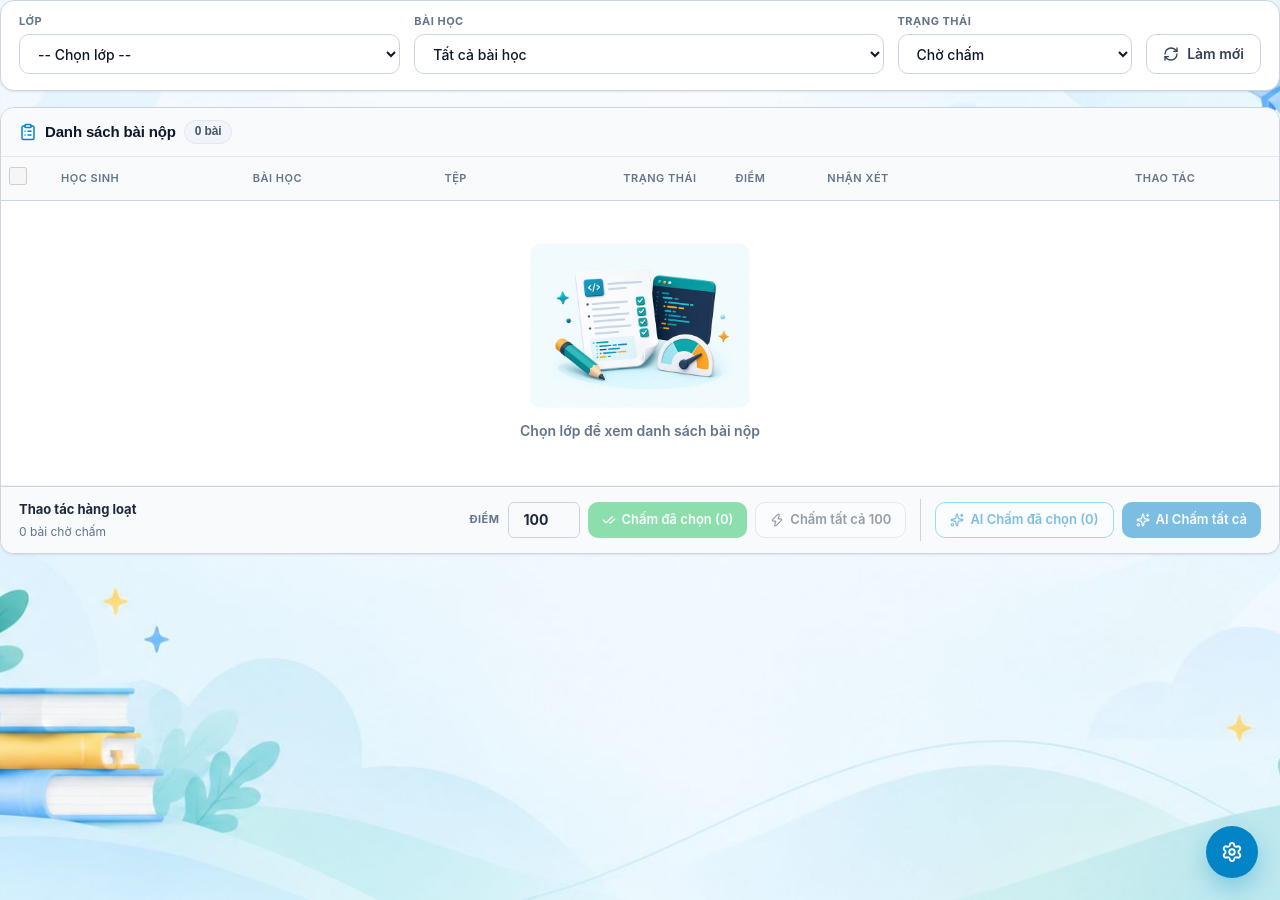
Test: React homework page parity › refreshes untouched AI-marked rows after a partially successful terminal job while preserving unrelated dirty drafts
Step 1. Select "Lớp đang học" in the dropdown labelled "Lớp" → [210, 54], box left=19, top=34, right=400, bottom=74
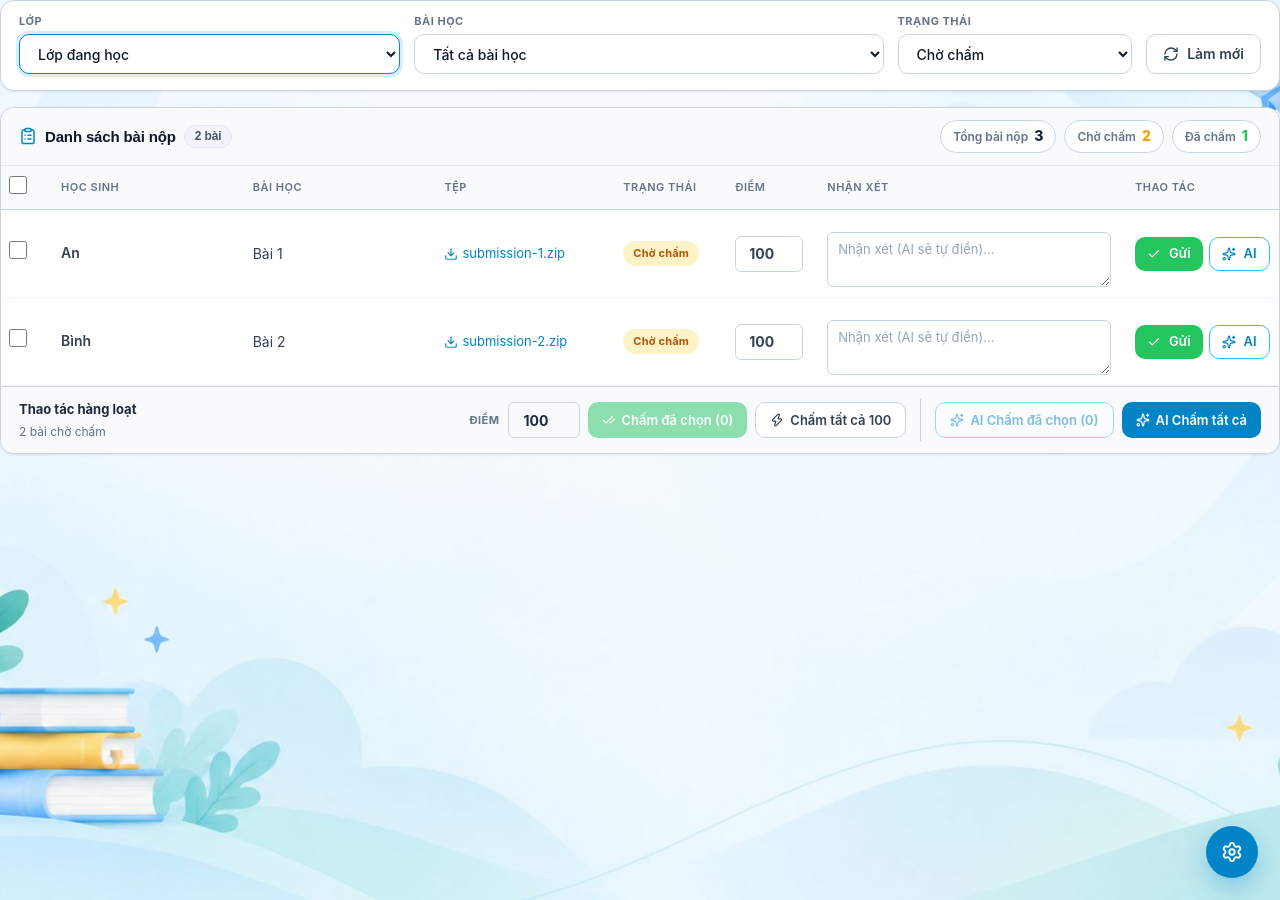
Expected: the cell "An" is shown, left=49, top=210, right=241, bottom=298
Step 2. Select "Tất cả" in the dropdown labelled "Trạng thái" → [1015, 54], box left=898, top=34, right=1132, bottom=74
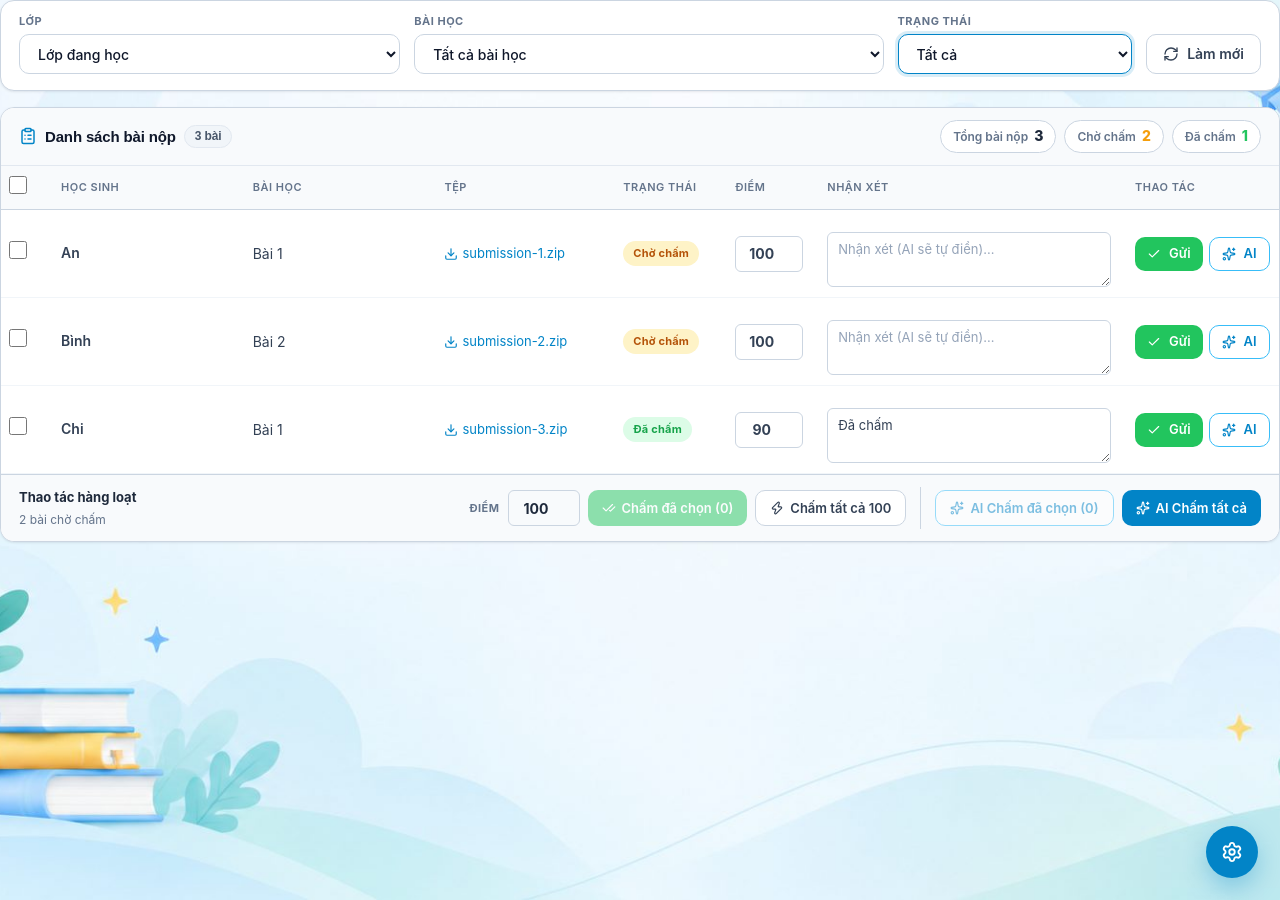
Step 3. Replace the text in the number field named "Điểm của Bình" with "64" → [769, 342], box left=735, top=324, right=803, bottom=360
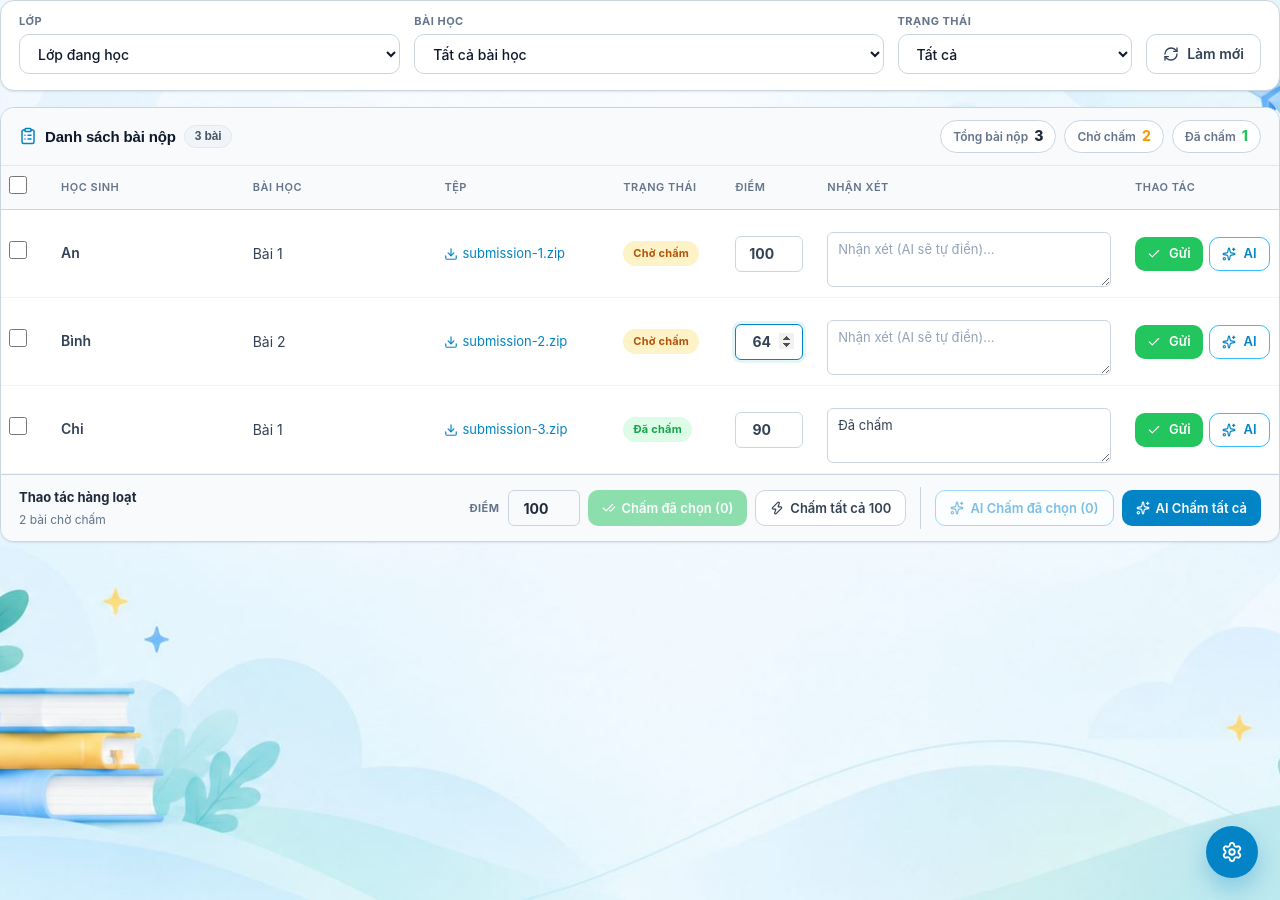
Step 4. Type "Bản nháp không thuộc kết quả thành công" into the text box named "Nhận xét cho Bình" → [969, 348], box left=827, top=320, right=1111, bottom=375
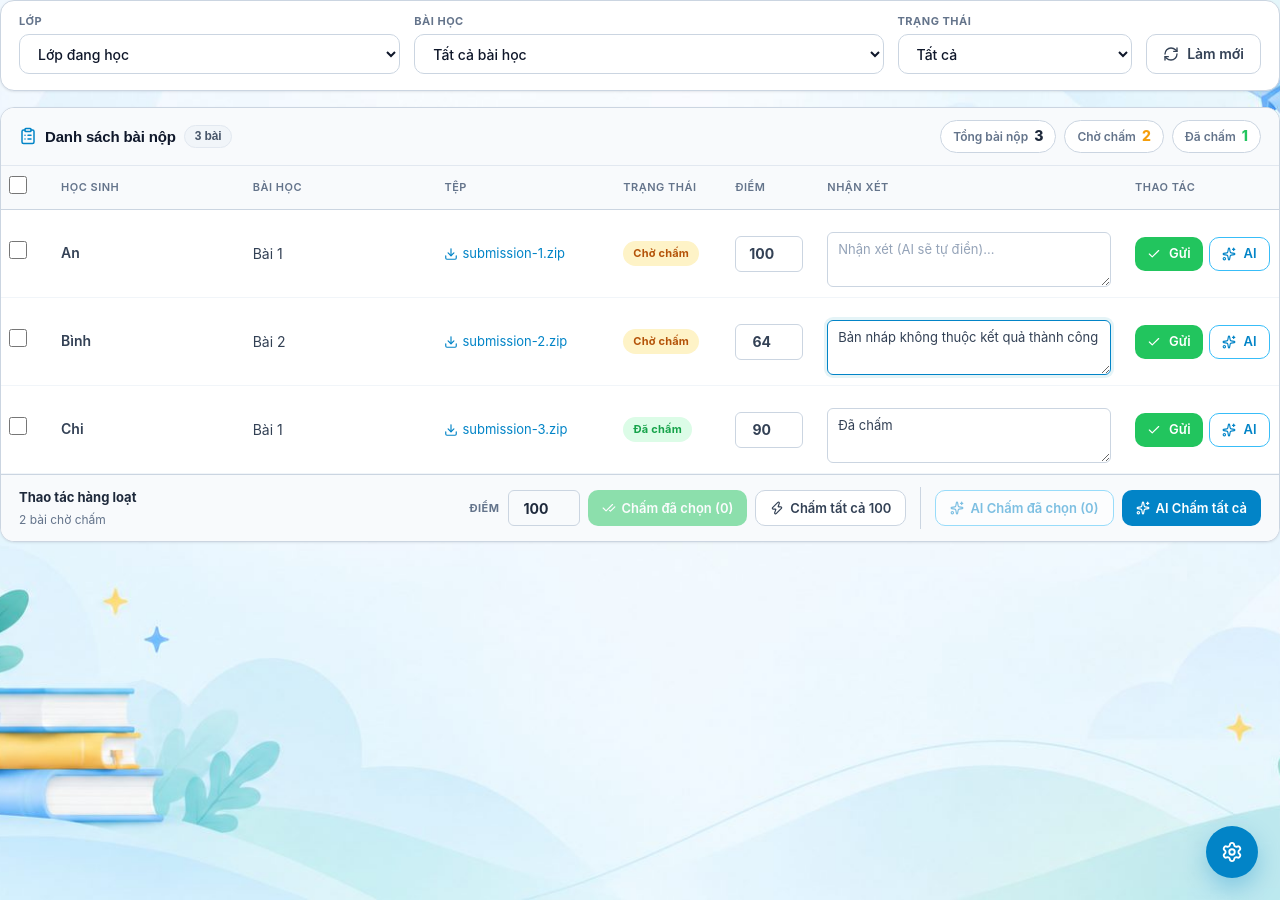
Step 5. Click the button "AI Chấm tất cả" → [1191, 508], box left=1122, top=490, right=1261, bottom=526
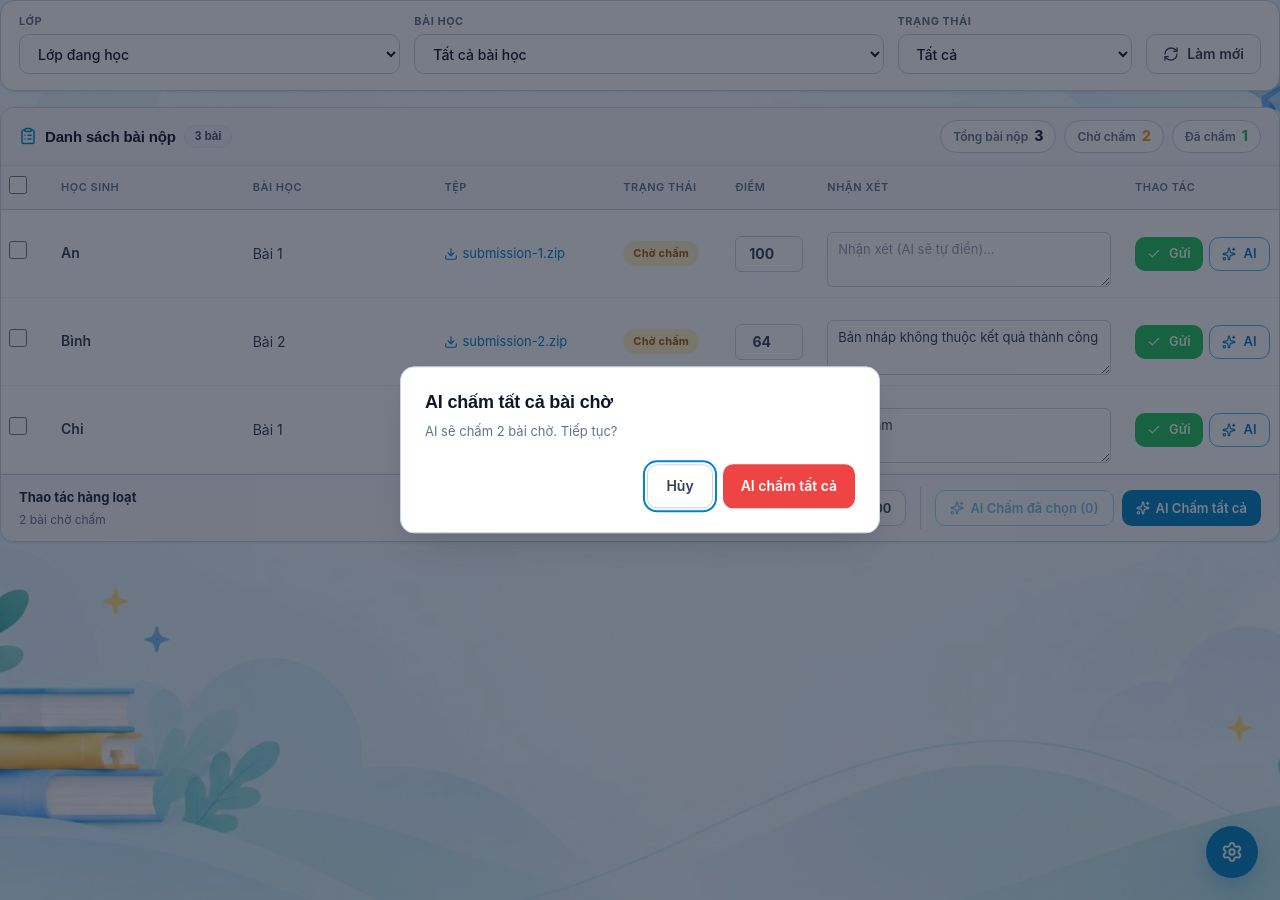
Step 6. Click the button "AI chấm tất cả" → [789, 486], box left=723, top=464, right=855, bottom=509
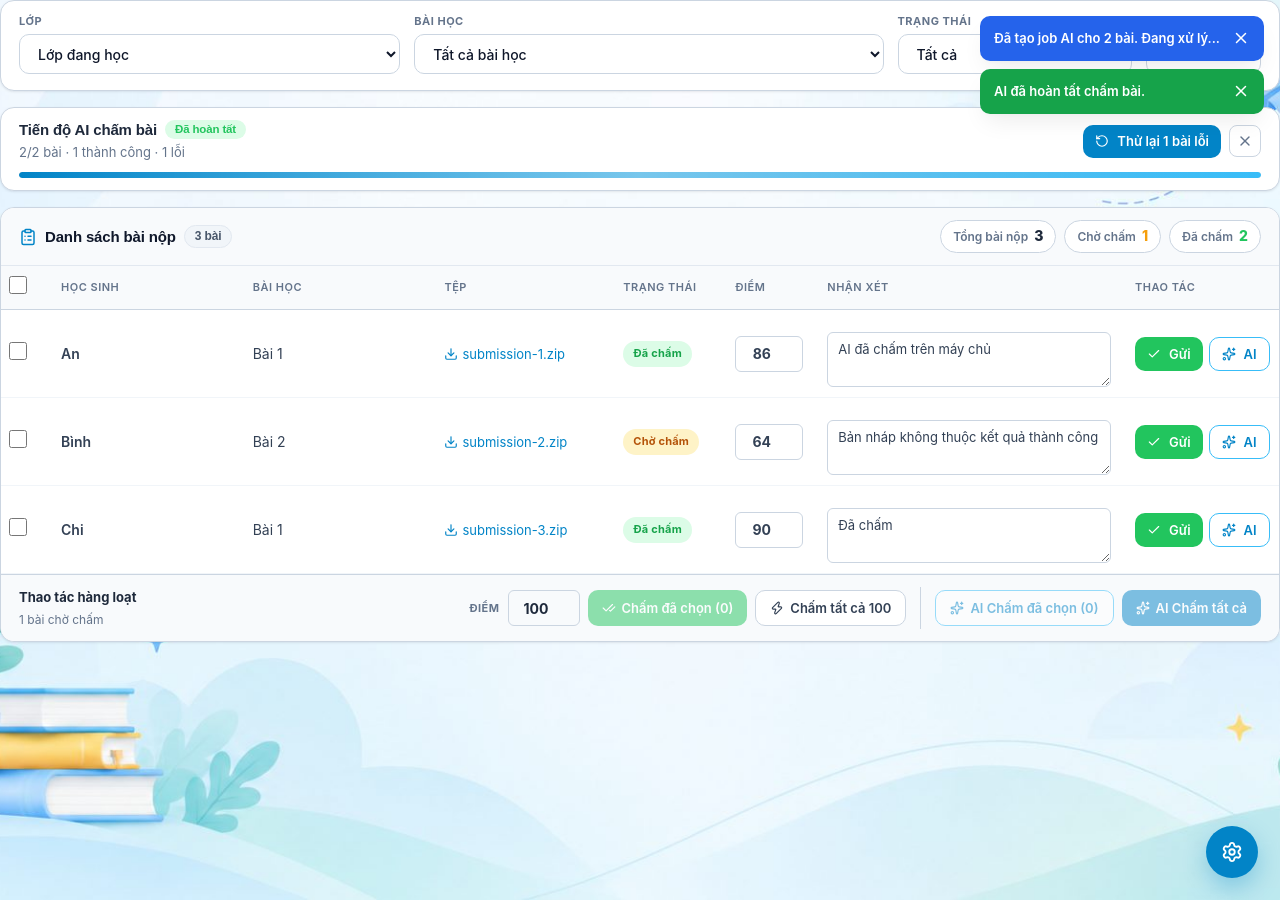
Expected: the text "AI đã hoàn tất chấm bài." is shown, left=994, top=81, right=1145, bottom=102
Expected: the number field named "Điểm của An" holds "86", left=735, top=336, right=803, bottom=372
Expected: the text box named "Nhận xét cho An" holds "AI đã chấm trên máy chủ", left=827, top=332, right=1111, bottom=388
